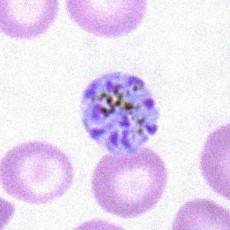Infected: (81, 70, 158, 158)
Uninfected: (92, 145, 169, 217), (1, 141, 74, 204)
